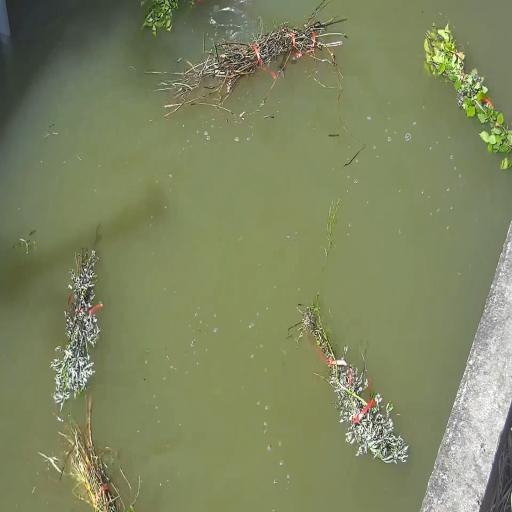twig: (288, 295, 408, 463), (164, 13, 345, 111), (424, 24, 512, 153), (59, 399, 133, 512), (51, 247, 102, 409), (141, 0, 179, 35)
